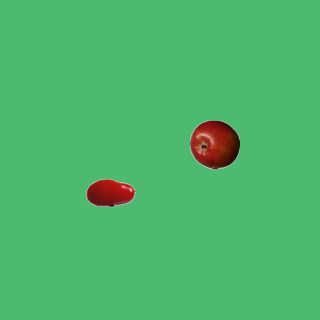Apple Braeburn: (189, 119, 239, 169)
Tomato 2: (85, 167, 135, 217)
